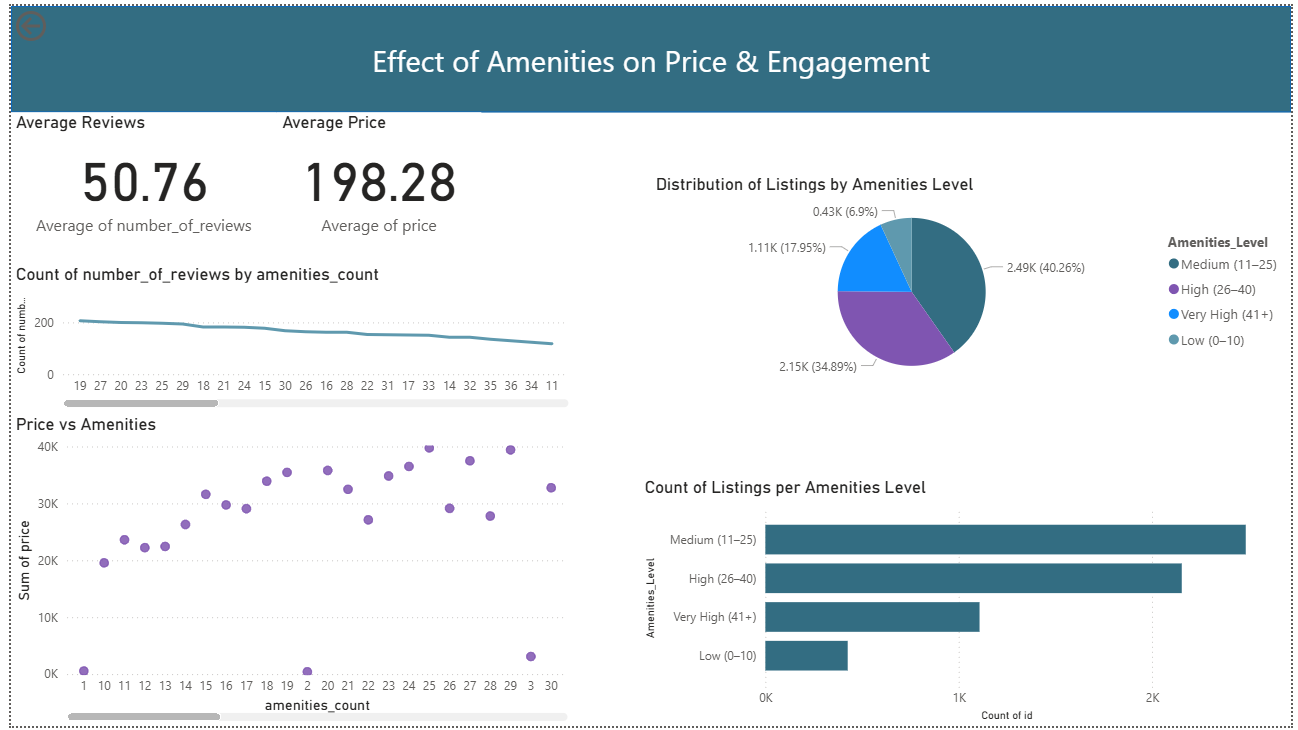

What the dashboard file says about the page in this screenshot:
{"tool":"powerbi","page":{"name":"Page 2","canvas":[1280,720],"ordinal":1},"visuals":[{"type":"shape","box":[0,0,1280.3,106.4],"z":0},{"type":"card","title":"Average Price","fields":{"Values":["Avg(cleaned_airbnb_data.price)"]},"box":[265.9,106.4,203.6,128.4],"z":1000},{"type":"scatterChart","title":"Price vs Amenities","fields":{"X":["cleaned_airbnb_data.amenities_count"],"Y":["Sum(cleaned_airbnb_data.price)"]},"box":[0,407.3,561.7,312.6],"z":2000},{"type":"lineChart","fields":{"Category":["cleaned_airbnb_data.amenities_count"],"Y":["CountNonNull(cleaned_airbnb_data.number_of_reviews)"]},"box":[0,258.1,562.6,148.9],"z":3000},{"type":"card","title":"Average Reviews","fields":{"Values":["Avg(cleaned_airbnb_data.number_of_reviews)"]},"box":[0,106.4,265.9,128.4],"z":4000},{"type":"actionButton","box":[0,0,100,40],"z":5000},{"type":"barChart","title":"Count of Listings per Amenities Level","fields":{"Category":["cleaned_airbnb_data.Amenities_Level"],"Y":["CountNonNull(cleaned_airbnb_data.id)"]},"box":[629.1,470.9,629.1,249],"z":6000},{"type":"pieChart","title":"Distribution of Listings by Amenities Level","fields":{"Category":["cleaned_airbnb_data.Amenities_Level"],"Y":["CountNonNull(cleaned_airbnb_data.id)"]},"box":[639.5,167.3,640.8,217.9],"z":7000}]}

Visuals, with their boxes in screenshot pixels (x1, y1, x2, y2), scaled from the page's 1280x720 canvas onto the 1298x730 screenshot:
shape: {"left": 0, "top": 0, "right": 1297, "bottom": 108}
"Average Price" card: {"left": 270, "top": 108, "right": 476, "bottom": 238}
"Price vs Amenities" scatterChart: {"left": 0, "top": 413, "right": 570, "bottom": 729}
lineChart - cleaned_airbnb_data.amenities_count x CountNonNull(cleaned_airbnb_data.number_of_reviews): {"left": 0, "top": 262, "right": 571, "bottom": 413}
"Average Reviews" card: {"left": 0, "top": 108, "right": 270, "bottom": 238}
actionButton: {"left": 0, "top": 0, "right": 101, "bottom": 41}
"Count of Listings per Amenities Level" barChart: {"left": 638, "top": 477, "right": 1276, "bottom": 729}
"Distribution of Listings by Amenities Level" pieChart: {"left": 648, "top": 170, "right": 1297, "bottom": 391}
